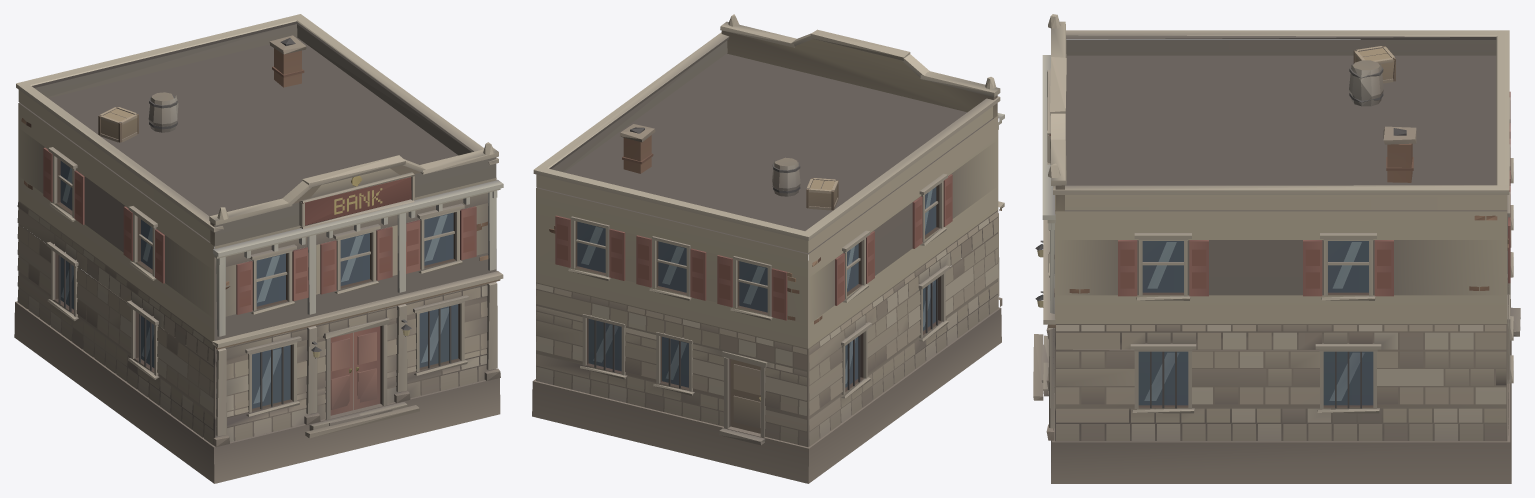
File: house_0.lod1.glb
3 renders of one model, left to right at view 1: azimuth 30°, elevation 25°; view 2: azimuth 150°, elevation 25°; view 3: azimuth 270°, elevation 25°, orthographic. The views are drawn at different scales.
Size of the model in its own units: 9.2 by 8.38 by 11.59.
